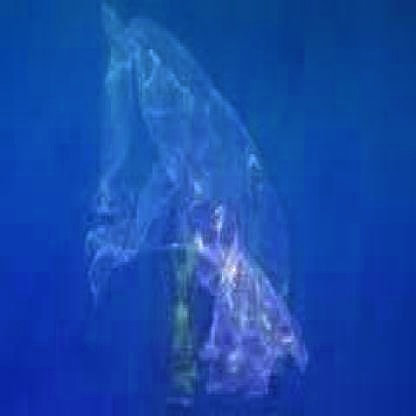pbag: (81, 3, 314, 404)
